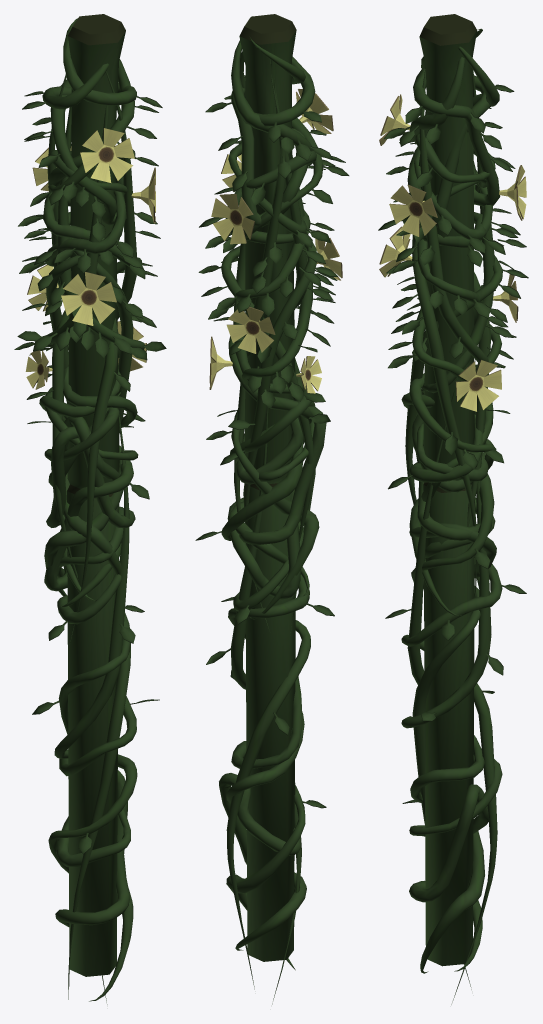
File: Vine Plant phase 3.fbx
3 views of the same model, side by side, from view 1: azimuth 30°, elevation 25°; view 2: azimuth 150°, elevation 25°; view 3: azimuth 270°, elevation 25° (orthographic).
Visible parts, largest first — view 1: BezierCurve.003, Phase 4 Bamboo 4; view 2: BezierCurve.003, Phase 4 Bamboo 4; view 3: BezierCurve.003, Phase 4 Bamboo 4.
Part boxes in pixels (x1,y1,x2,y2): BezierCurve.003: [14, 18, 166, 1004]; Phase 4 Bamboo 4: [67, 14, 125, 976]; BezierCurve.003: [195, 37, 349, 1004]; Phase 4 Bamboo 4: [239, 14, 296, 961]; BezierCurve.003: [378, 28, 528, 1004]; Phase 4 Bamboo 4: [419, 14, 477, 966].
Size of the model in its own units: 79.33 by 570 by 79.44.
